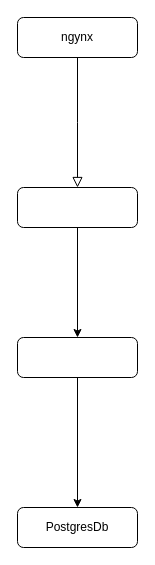
Image size: 155x565. Some labels were removed from this diagram. Each missing label, with the box of its shape:
MainService: (16, 186, 138, 228)
UserService: (16, 336, 138, 378)
